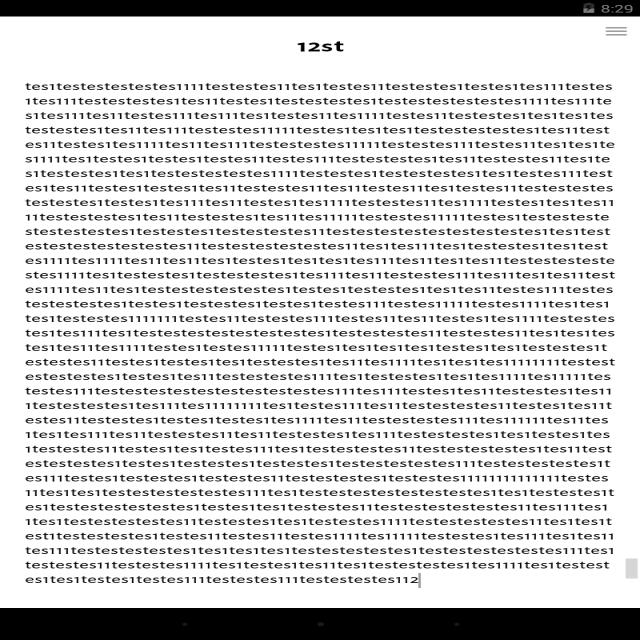ImageButton: (597, 22, 632, 40)
TextView: (21, 79, 614, 572), (293, 38, 355, 56)
